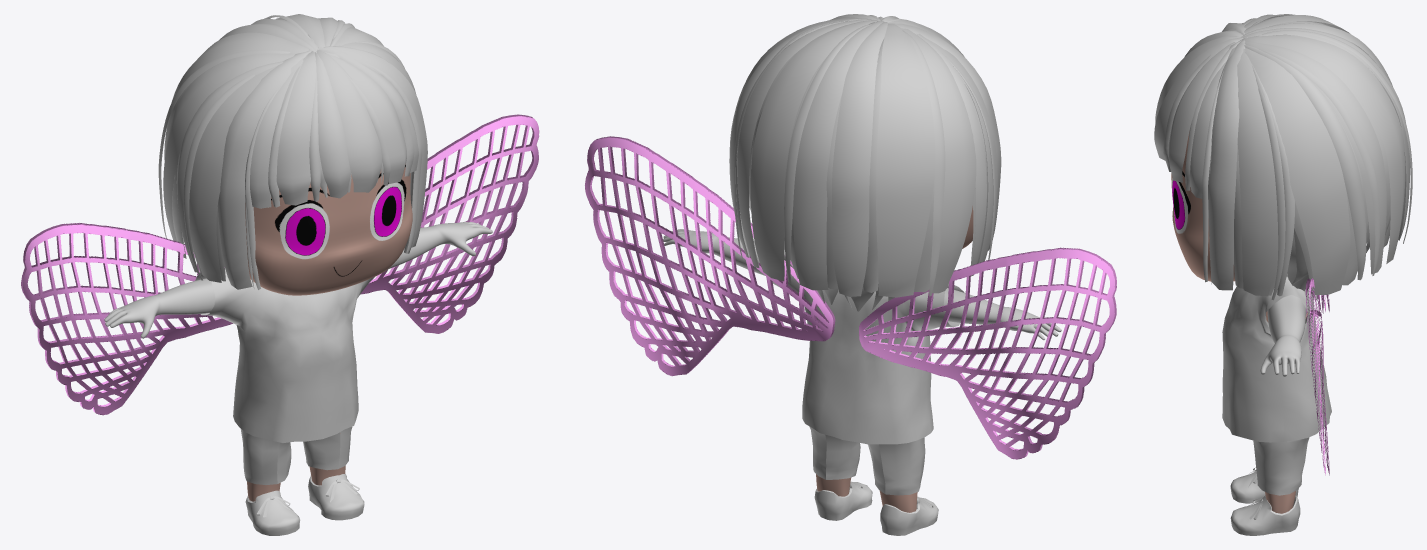
File: nora_01.fbx
The picture shows the model from 3 angles, left to right: view 1: azimuth 30°, elevation 25°; view 2: azimuth 150°, elevation 25°; view 3: azimuth 270°, elevation 25°; orthographic projection. The views are drawn at different scales.
Visible parts, largest first — view 1: Hair, Wings, Shirt, Body, Shoes, Pants, Arm_Right, Arm_Left; view 2: Hair, Wings, Shirt, Pants, Shoes, Arm_Right, Body, Arm_Left; view 3: Hair, Shirt, Body, Shoes, Arm_Left, Pants, Wings.
Boxes of the visible parts, bbox=[...] form: Hair: bbox=[158, 14, 427, 289]; Wings: bbox=[21, 114, 539, 415]; Shirt: bbox=[195, 268, 387, 442]; Body: bbox=[245, 164, 412, 501]; Shoes: bbox=[245, 474, 364, 535]; Pants: bbox=[240, 427, 352, 484]; Arm_Right: bbox=[104, 278, 215, 338]; Arm_Left: bbox=[388, 222, 492, 269]; Hair: bbox=[729, 14, 1001, 311]; Wings: bbox=[585, 136, 1116, 459]; Shirt: bbox=[772, 250, 964, 444]; Pants: bbox=[809, 426, 925, 495]; Shoes: bbox=[814, 481, 938, 535]; Arm_Right: bbox=[943, 288, 1061, 340]; Body: bbox=[816, 206, 973, 512]; Arm_Left: bbox=[663, 229, 765, 275]; Hair: bbox=[1154, 14, 1412, 300]; Shirt: bbox=[1222, 274, 1331, 442]; Body: bbox=[1171, 131, 1307, 513]; Shoes: bbox=[1230, 467, 1300, 535]; Arm_Left: bbox=[1260, 295, 1306, 376]; Pants: bbox=[1253, 437, 1309, 495]; Wings: bbox=[1305, 278, 1329, 475].
Size of the model in its own units: 335 by 288 by 140.
